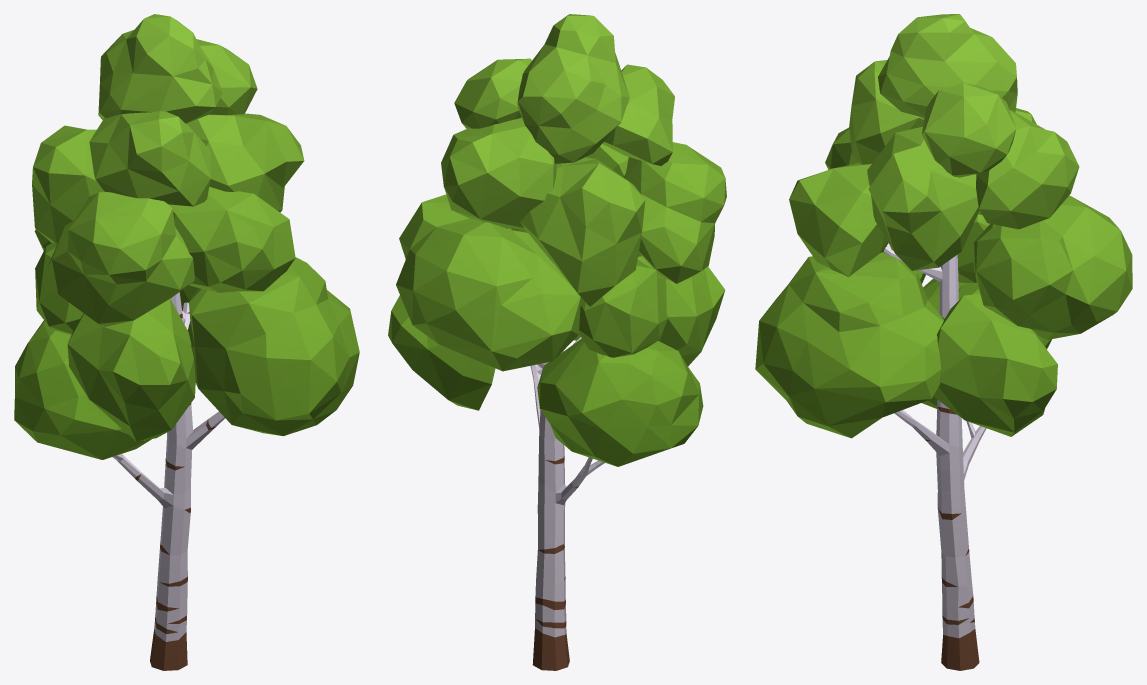
Rendered from Tree_Birch_Green_02.fbx.
3 views of the same model, side by side, from view 1: azimuth 30°, elevation 25°; view 2: azimuth 150°, elevation 25°; view 3: azimuth 270°, elevation 25° (orthographic). The views are drawn at different scales.
Visible parts, largest first — view 1: Tree_Birch_Green_02; view 2: Tree_Birch_Green_02; view 3: Tree_Birch_Green_02.
Part boxes in pixels (x1,y1,x2,y2): Tree_Birch_Green_02: [14, 14, 359, 670]; Tree_Birch_Green_02: [388, 14, 726, 670]; Tree_Birch_Green_02: [755, 14, 1132, 670].
Size of the model in its own units: 371 by 815 by 434.
